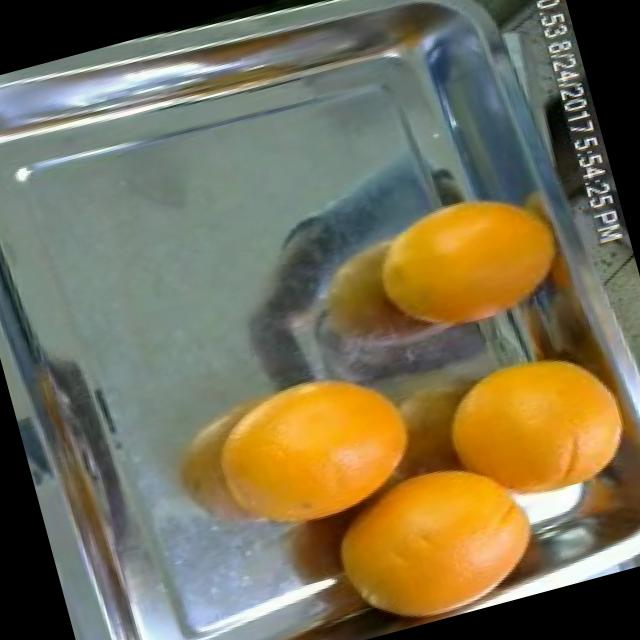Fruit: (344, 154, 590, 354)
